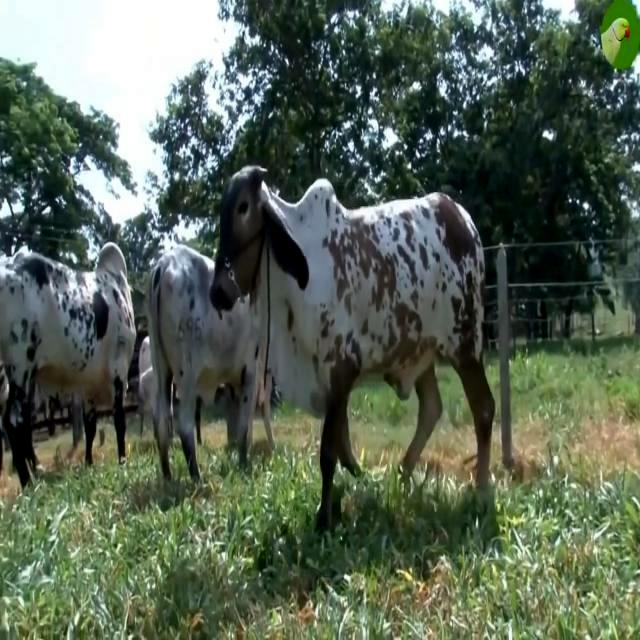COW: (211, 166, 495, 530), (0, 242, 135, 486), (149, 245, 256, 481)
